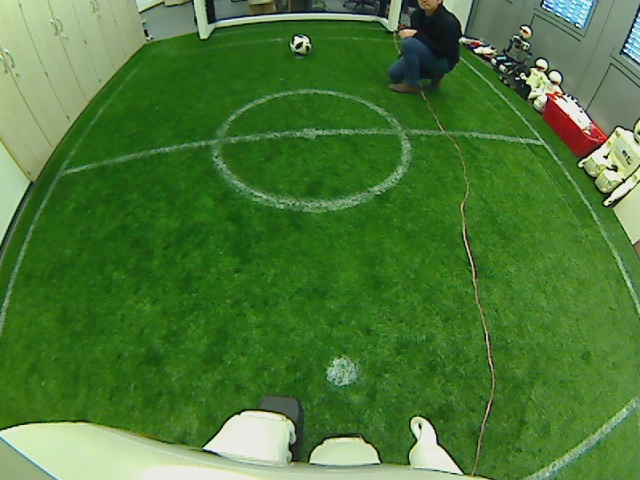ball: (290, 33, 312, 56)
